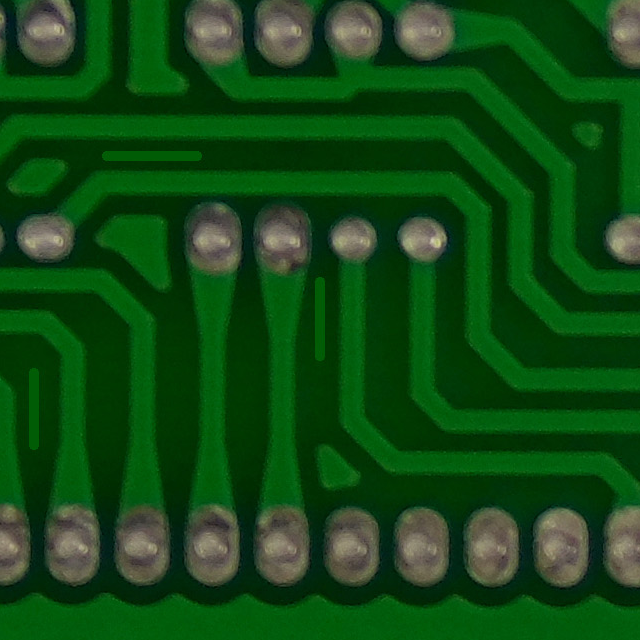spurious_copper: (90, 136, 216, 186), (295, 262, 345, 378), (13, 352, 57, 462)
